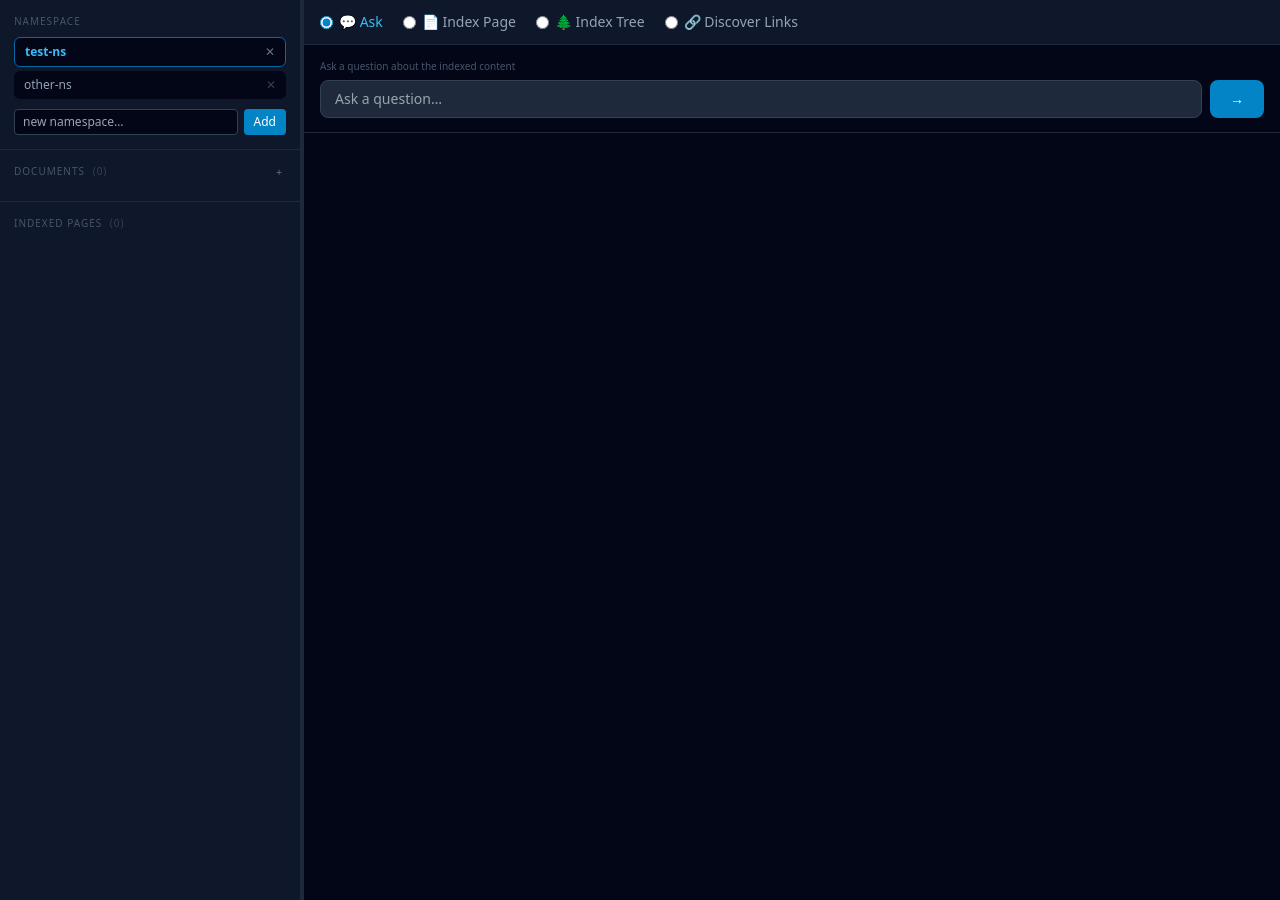
Test: App › keeps each Ask entry tagged with its namespace at submission across namespace switches
The image size is (1280, 900).
Check: the text "test-ns" is shown, box [25,43,66,60]
Type "first question" into the field with placeholder "Ask a question…" at (761, 99), box [320,80,1202,118]
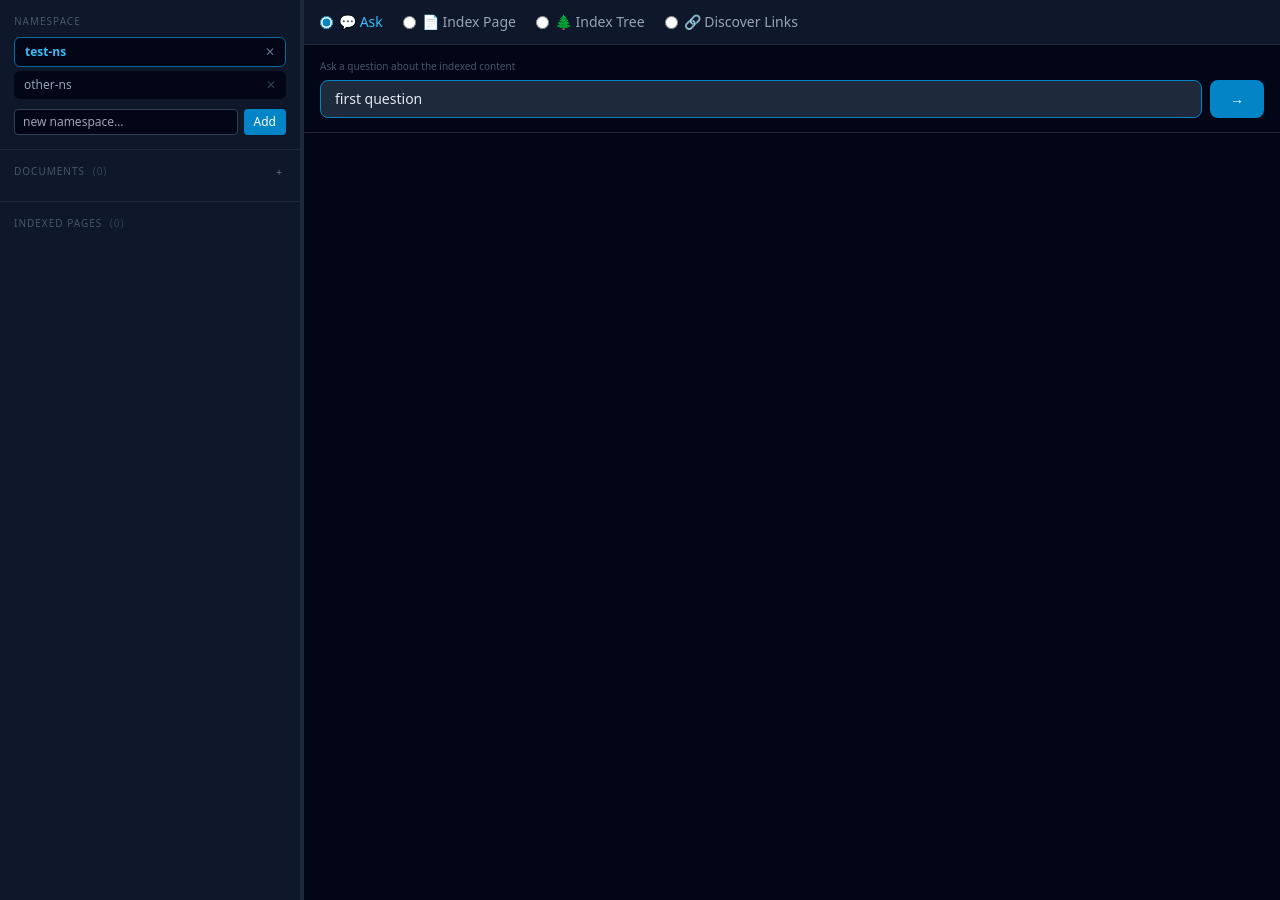
Click the button named "Ask" at (1237, 99), box [1210,80,1264,118]
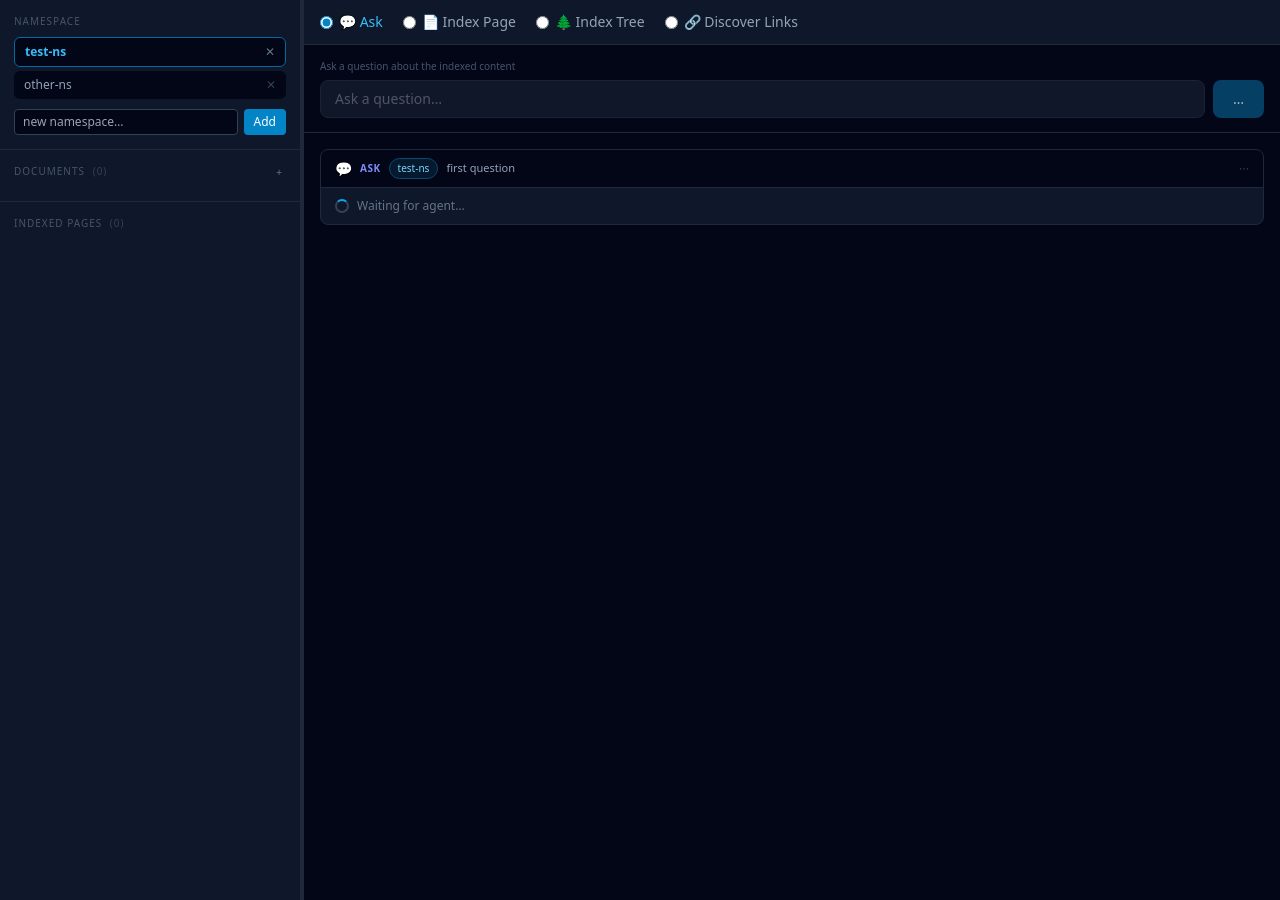
Check: the message "Waiting for agent…" is shown, box [335,197,465,214]
Check: the text named "Namespace: test-ns" reads "test-ns", box [398,161,429,175]
Click the text "other-ns" at (48, 84), box [24,76,72,93]
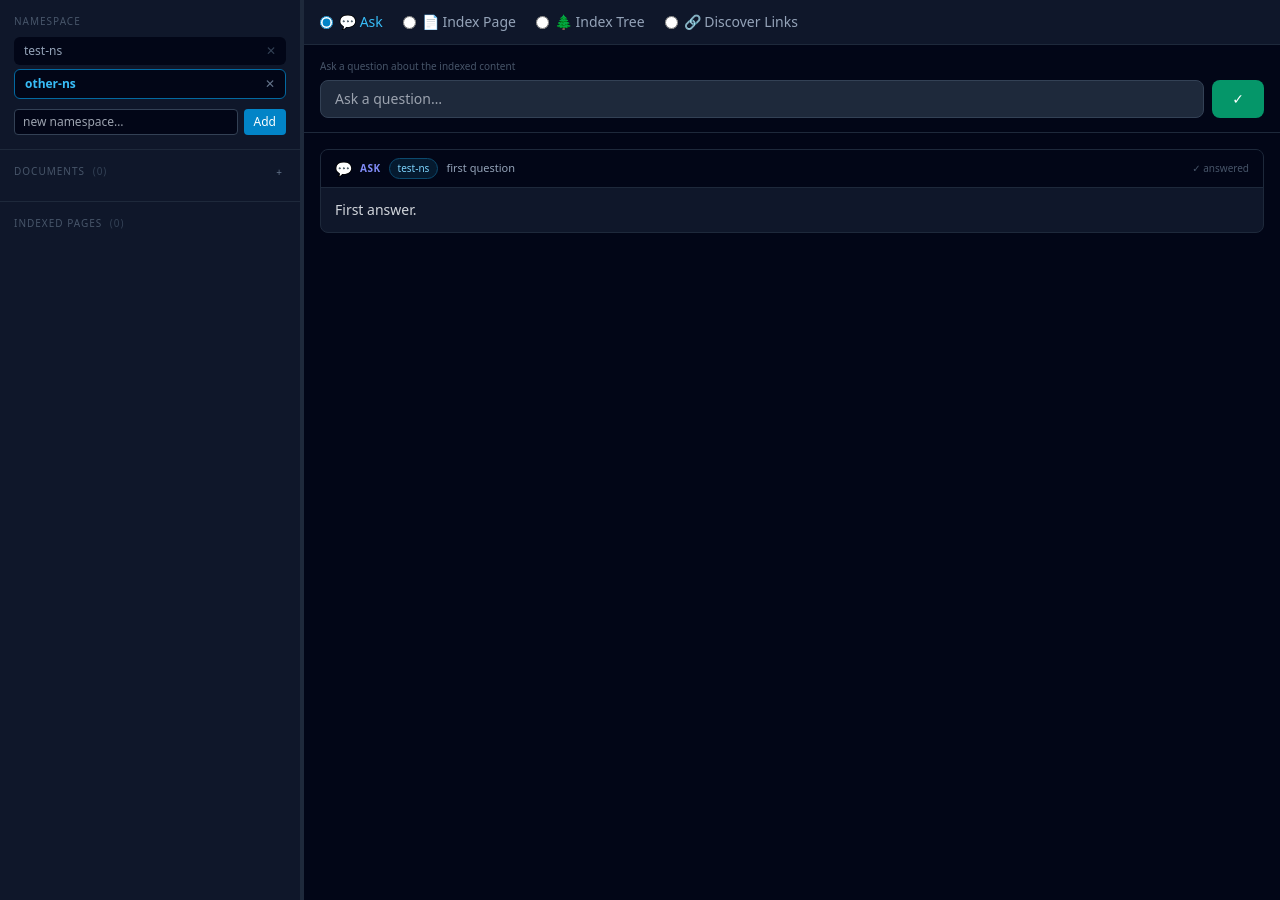
Check: the text named "Namespace: test-ns" reads "test-ns", box [398,161,429,175]
Check: the text "First answer." is shown, box [335,200,416,219]
Type "second question" into the field with placeholder "Ask a question…" at (762, 99), box [320,80,1204,118]
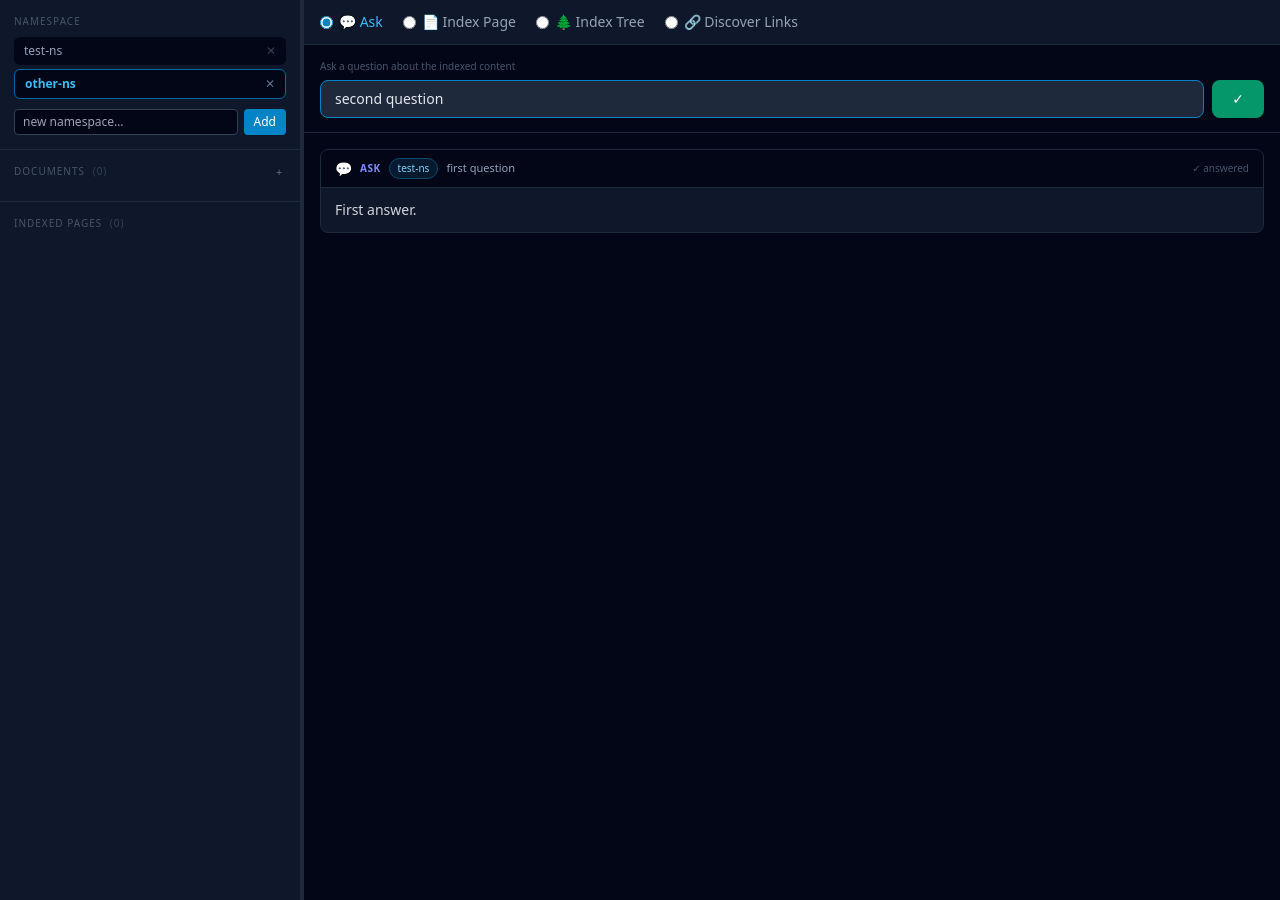
Click the button named "Ask" at (1238, 99), box [1212,80,1264,118]
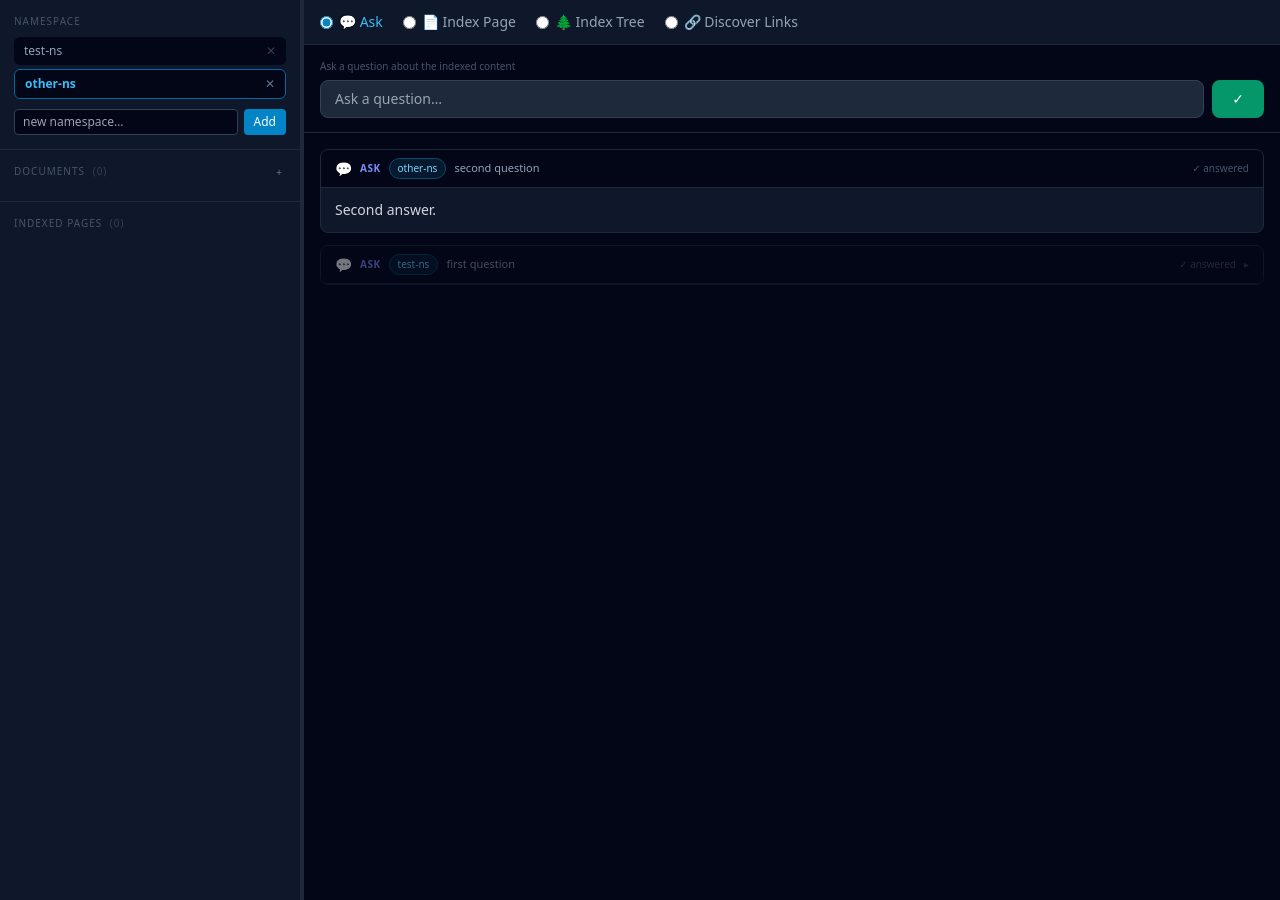
Check: the text named "Namespace: test-ns" reads "test-ns", box [398,257,429,271]
Check: the text "Second answer." is shown, box [335,200,436,219]
Check: the text named "Namespace: other-ns" reads "other-ns", box [398,161,437,175]
Click the text "first question" at (481, 264), box [446,256,515,271]
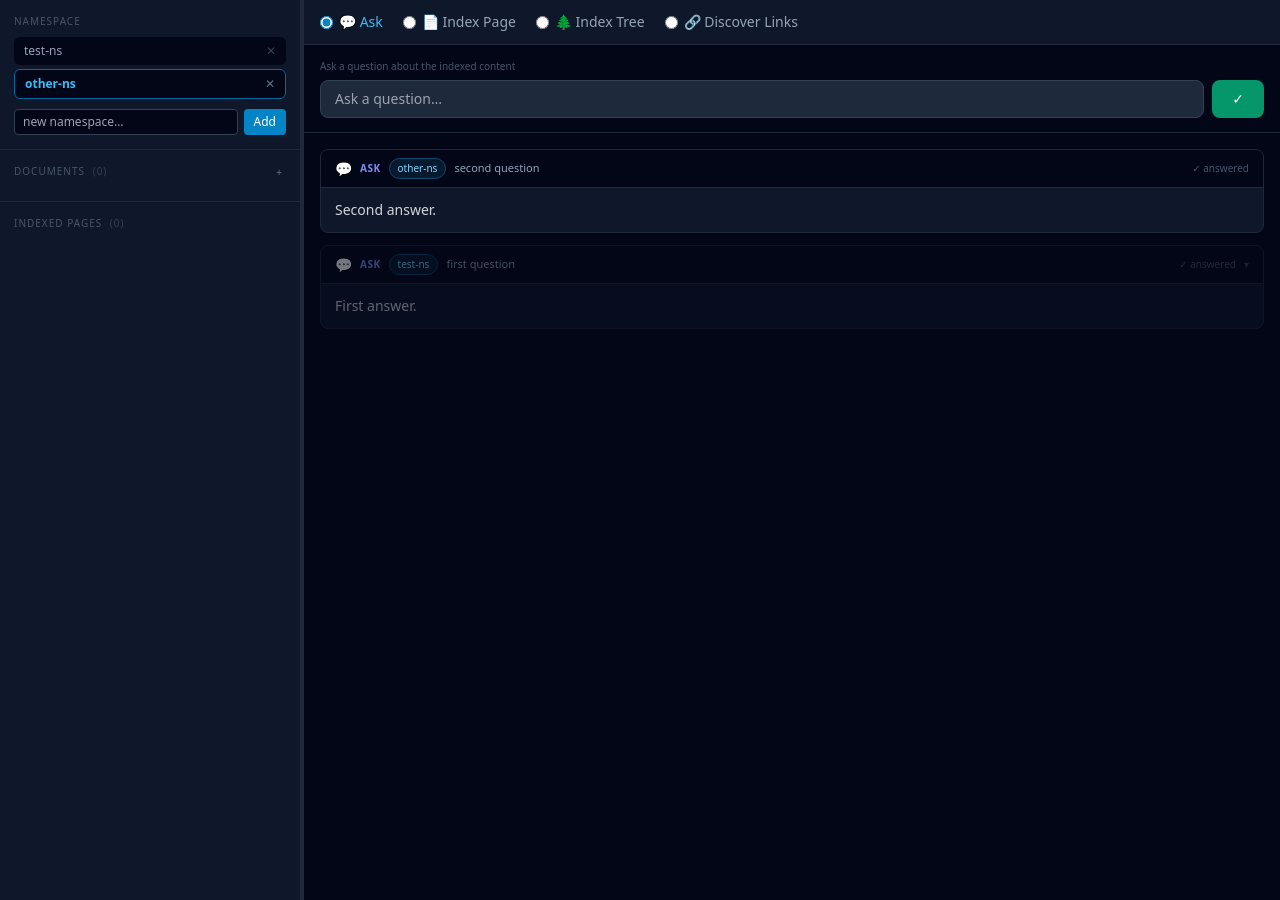
Check: the text named "Namespace: test-ns" reads "test-ns", box [398,257,429,271]
Check: the text "First answer." is shown, box [335,296,416,315]
